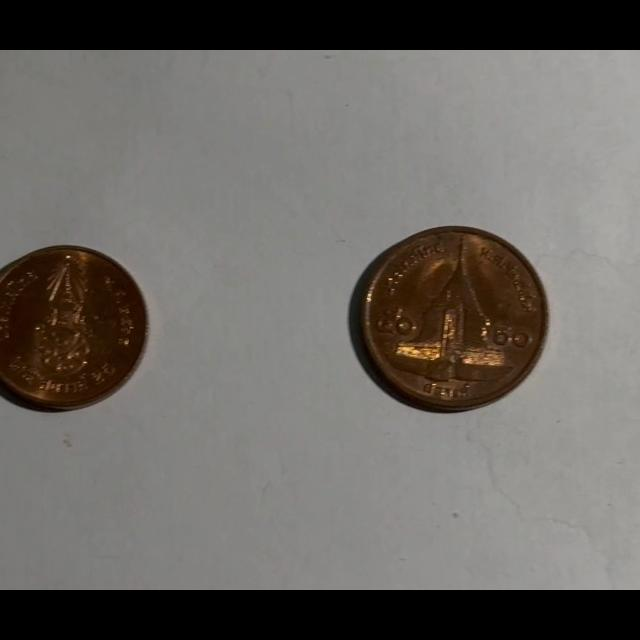25-satang: (0, 246, 146, 409)
50-satang: (354, 227, 545, 409)
